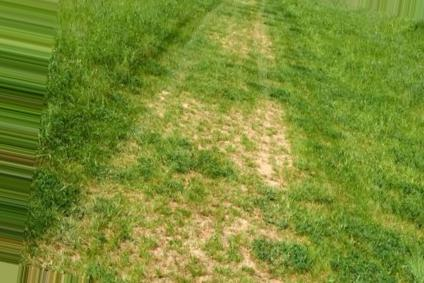patch: (151, 196, 250, 260), (181, 143, 302, 189), (203, 94, 303, 139), (200, 14, 274, 51), (84, 182, 132, 206), (122, 130, 156, 159), (159, 90, 177, 114)
